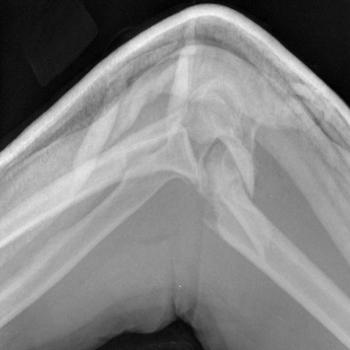Fracture: (180, 133, 229, 247)
